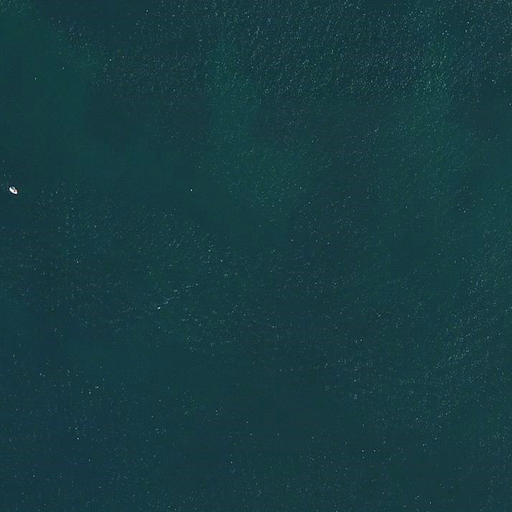ship: (6, 182, 19, 197)
